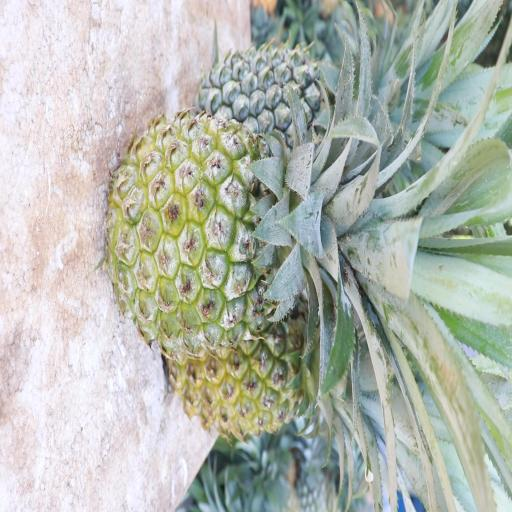------------------------------: (100, 110, 402, 361)
Pineapple - v8 v1: (159, 238, 394, 448)
